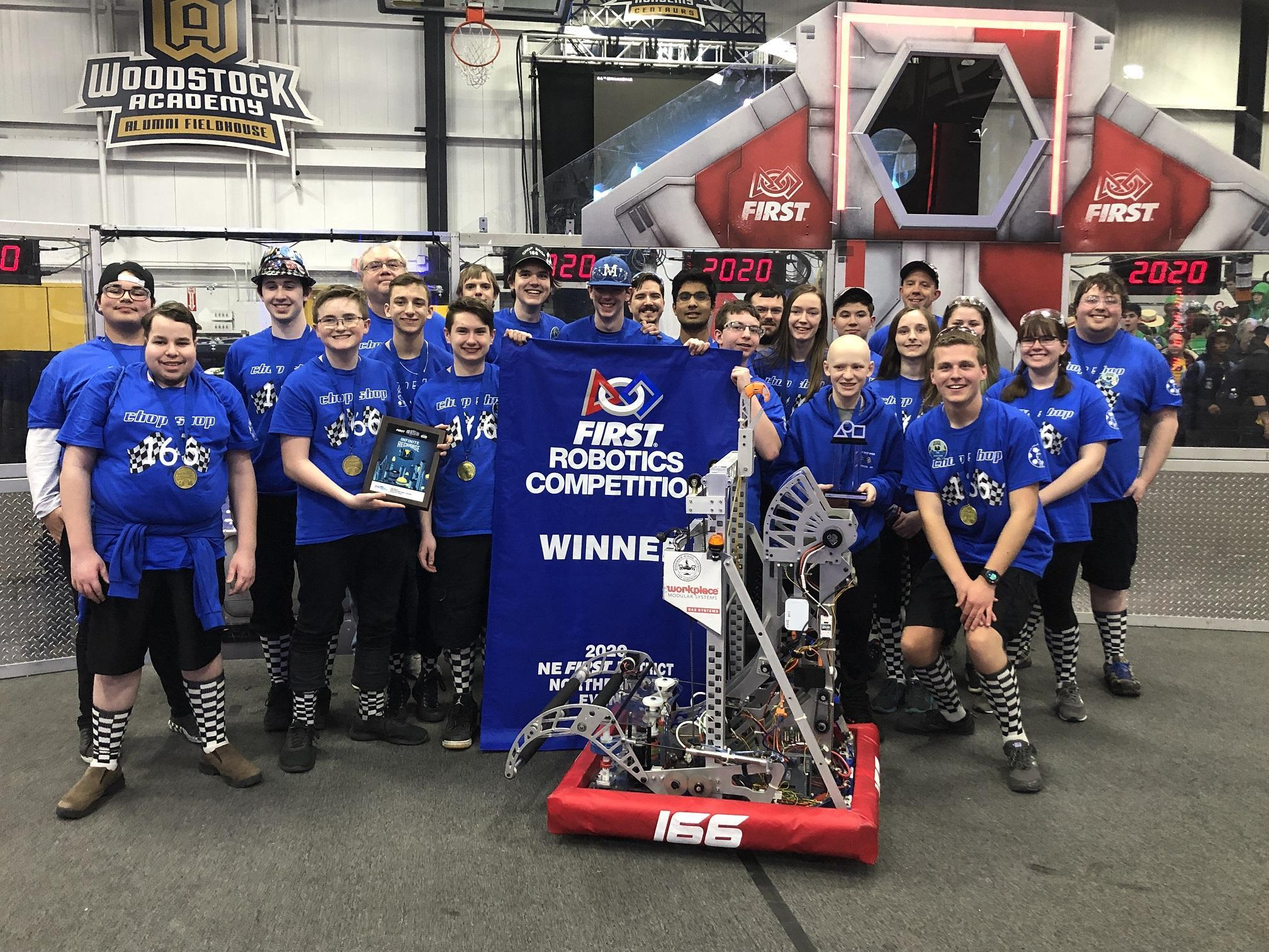robot: (499, 374, 891, 873)
